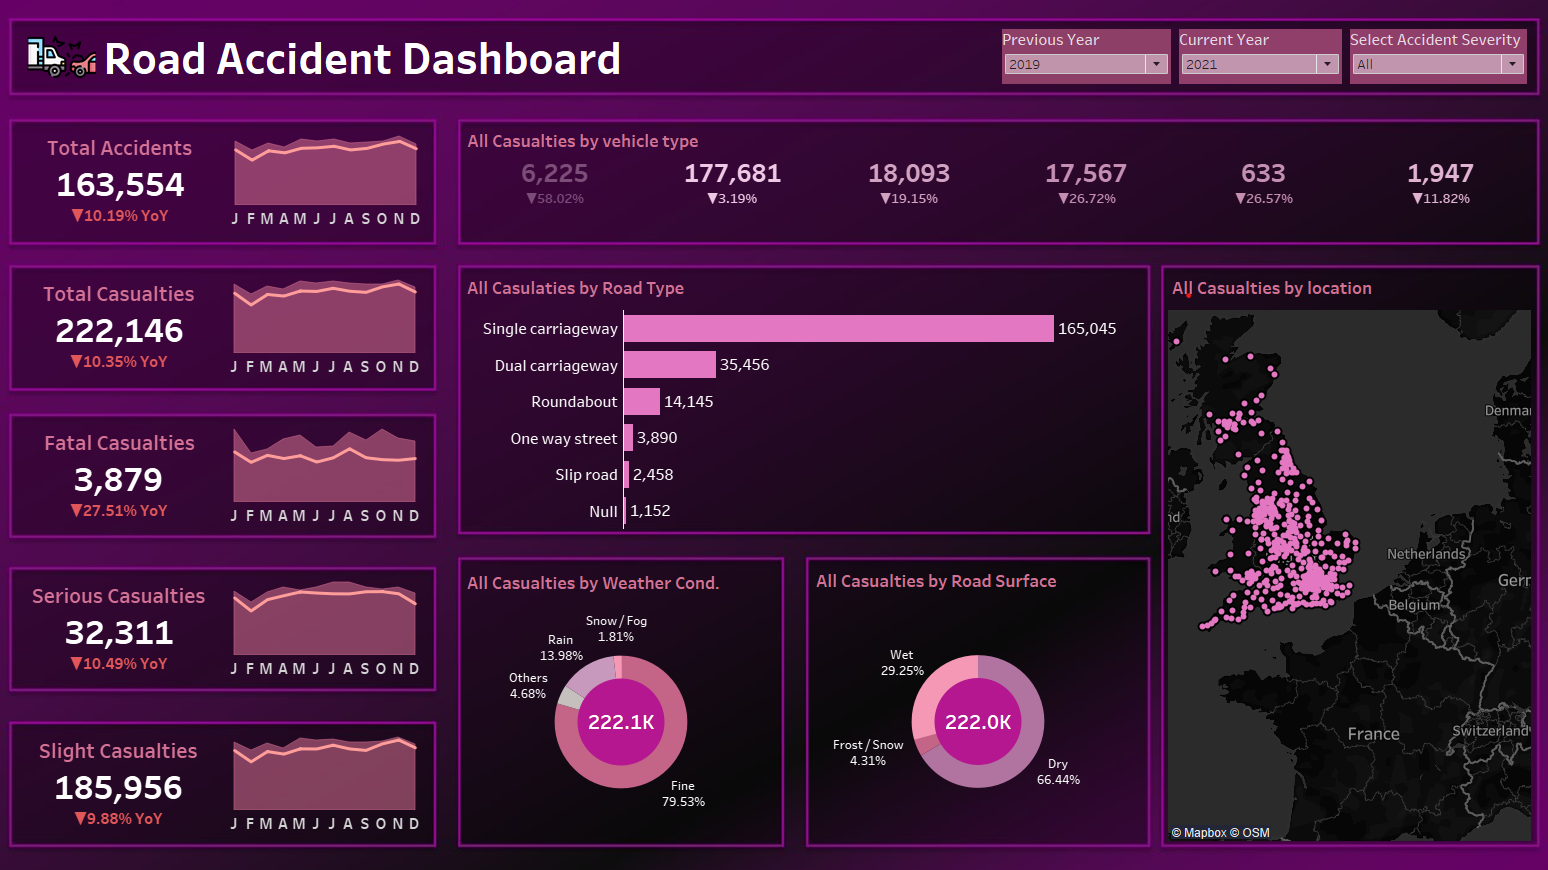

What the dashboard file says about the page in this screenshot:
{"tool":"tableau","page":{"name":"Dashboard 1","canvas":[1600,900],"ordinal":0},"visuals":[{"type":"image","param":"C:/Users/Hp/OneDrive/Documents/Data Science Course/My Projects/Tableau/Road Acci","box":[8,8,1584,884]},{"type":"image","param":"C:/Users/Hp/Downloads/car-accident.png","box":[44,35,85,69]},{"type":"text","box":[125,36,562,66]},{"type":"parameter","param":"[Parameters].[Current Year (copy)_879046387308072961]","box":[1023,38,177,63]},{"type":"parameter","param":"[Parameters].[Parameter 1]","box":[1200,38,171,63]},{"type":"parameter","param":"[Parameters].[Parameter 2]","box":[1371,38,185,63]},{"type":"worksheet","title":"vehicle types KPI ","mark":"Automatic","box":[488,137,1071,115]},{"type":"text","box":[489,138,432,30]},{"type":"worksheet","title":"Total Accidents","mark":"Automatic","box":[43,142,205,104]},{"type":"worksheet","title":"Accident Sparkline","mark":"Automatic","rows":["CY Accidents (copy)_879046387311267843","Calculation_879046387308756994"],"cols":["Accident Date"],"box":[248,142,205,104]},{"type":"worksheet","title":"Road Type","mark":"Automatic","rows":["Road_Type"],"cols":["Calculation_879046387349442566"],"box":[488,284,680,258]},{"type":"worksheet","title":"By Location","mark":"Automatic","rows":["Latitude"],"cols":["Longitude"],"box":[1193,284,363,570]},{"type":"worksheet","title":"Total Casualties","mark":"Automatic","box":[42,285,205,110]},{"type":"worksheet","title":"Total Casualties Sparkline ","mark":"Automatic","rows":["CY Casualties (copy)_879046387350331399","Calculation_879046387349442566"],"cols":["Accident Date"],"box":[247,285,205,110]},{"type":"worksheet","title":"Fatal Casualties ","mark":"Automatic","box":[42,434,205,110]},{"type":"worksheet","title":"Fatal Casualties Sparkline","mark":"Automatic","rows":["CY Fatal Casualties  (copy)_879046387363086346","CY Casualties (copy)_879046387362140169"],"cols":["Accident Date"],"box":[247,434,205,110]},{"type":"worksheet","title":"Road Surface","mark":"Pie","rows":["Calculation_1011058152231624705","Calculation_1011058152231657475"],"box":[837,577,332,276]},{"type":"worksheet","title":"Weather Condition","mark":"Pie","rows":["Calculation_1011058152231624705","Calculation_1011058152231657475"],"box":[488,579,316,273]},{"type":"worksheet","title":"Serious Casualties ","mark":"Automatic","box":[42,587,205,110]},{"type":"worksheet","title":"Serious Casualties Sparkline ","mark":"Automatic","rows":["PY Fatal Casualties   (copy)_879046387364126733","CY Fatal Casualties  (copy)_879046387363950604"],"cols":["Accident Date"],"box":[247,587,205,110]},{"type":"worksheet","title":"Slight Casualties","mark":"Automatic","box":[42,742,205,110]},{"type":"worksheet","title":"Slight Casualties Sparkline ","mark":"Automatic","rows":["PY Serious Casualties   (copy)_879046387365830672","CY Serious Casualties  (copy)_879046387365654543"],"cols":["Accident Date"],"box":[247,742,205,110]}]}

Visuals, with their boxes in screenshot pixels (x1, y1, x2, y2), scaled from the page's 1600x900 canvas onto the 1548x870 screenshot:
image: select_region(8, 8, 1540, 862)
image: select_region(43, 34, 125, 101)
text: select_region(121, 35, 665, 99)
parameter: select_region(990, 37, 1161, 98)
parameter: select_region(1161, 37, 1326, 98)
parameter: select_region(1326, 37, 1505, 98)
"vehicle types KPI " worksheet: select_region(472, 132, 1508, 244)
text: select_region(473, 133, 891, 162)
"Total Accidents" worksheet: select_region(42, 137, 240, 238)
"Accident Sparkline" worksheet: select_region(240, 137, 438, 238)
"Road Type" worksheet: select_region(472, 275, 1130, 524)
"By Location" worksheet: select_region(1154, 275, 1505, 826)
"Total Casualties" worksheet: select_region(41, 276, 239, 382)
"Total Casualties Sparkline " worksheet: select_region(239, 276, 437, 382)
"Fatal Casualties " worksheet: select_region(41, 420, 239, 526)
"Fatal Casualties Sparkline" worksheet: select_region(239, 420, 437, 526)
"Road Surface" worksheet (Pie marks): select_region(810, 558, 1131, 825)
"Weather Condition" worksheet (Pie marks): select_region(472, 560, 778, 824)
"Serious Casualties " worksheet: select_region(41, 567, 239, 674)
"Serious Casualties Sparkline " worksheet: select_region(239, 567, 437, 674)
"Slight Casualties" worksheet: select_region(41, 717, 239, 824)
"Slight Casualties Sparkline " worksheet: select_region(239, 717, 437, 824)
